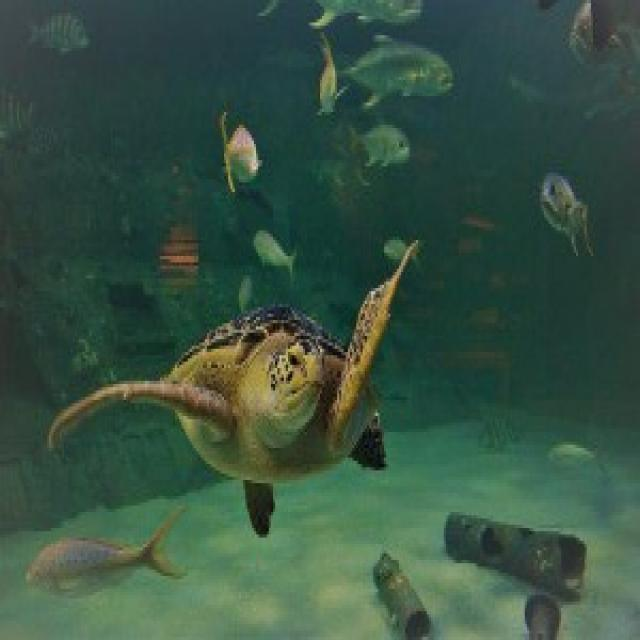Sea turtle: (48, 316, 407, 514)
